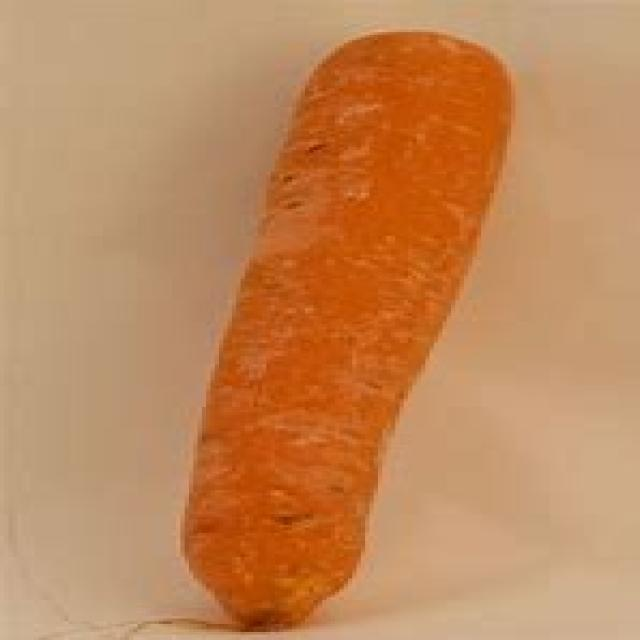Carrot: (194, 32, 521, 631)
